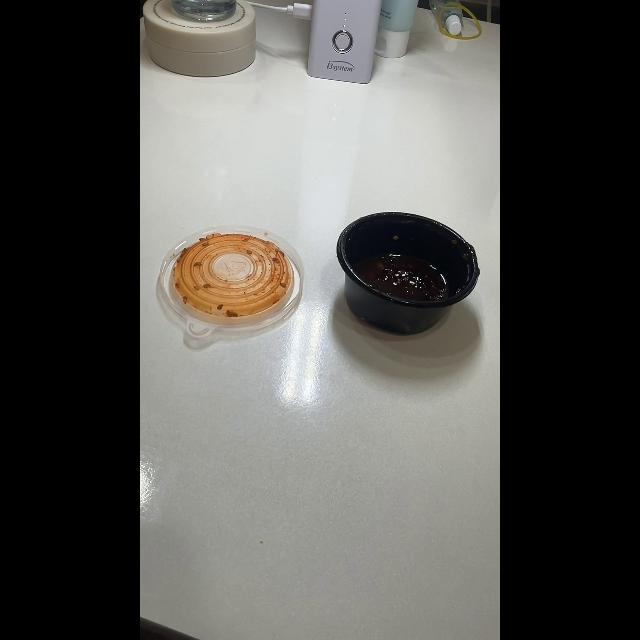dirty: (339, 212, 485, 336), (164, 226, 306, 344)
